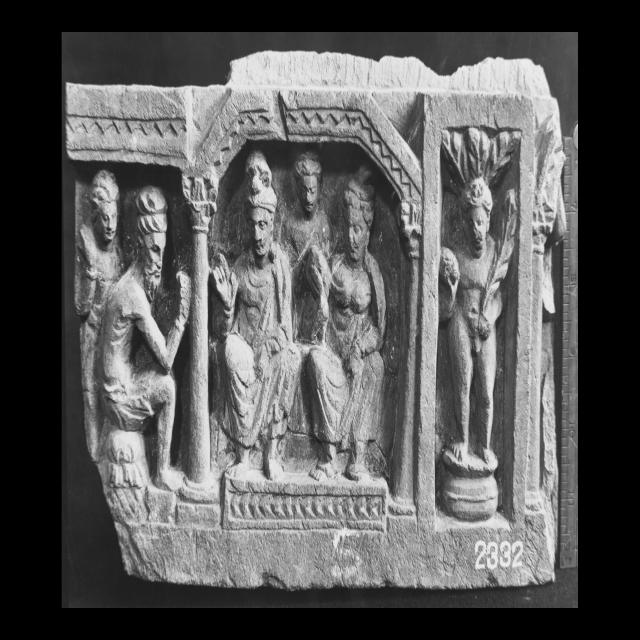buddha-sitting: (211, 151, 301, 480)
